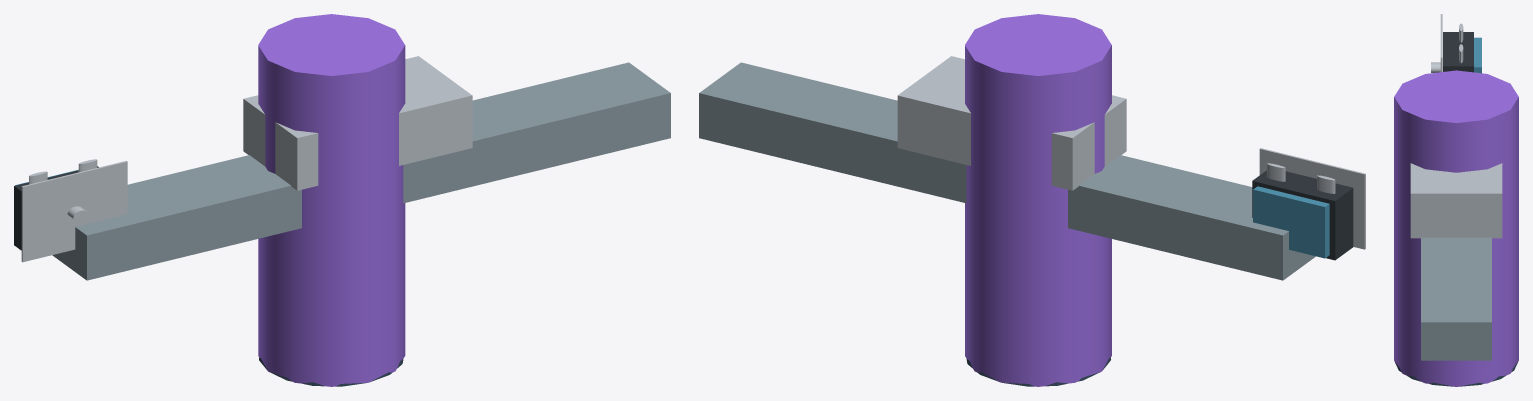
3 renders of one model, left to right at view 1: azimuth 30°, elevation 25°; view 2: azimuth 150°, elevation 25°; view 3: azimuth 270°, elevation 25°, orthographic. The views are drawn at different scales.
Visible parts, largest first — view 1: visualJoint, g0001, g0, g1, g0002; view 2: visualJoint, g0001, g0, g3, g0002, g1; view 3: visualJoint, g0001, g0, g0002, g3, base, g1.
Boxes of the visible parts, x1,y1,x2,y2 form: visualJoint: (258, 14, 405, 386); g0001: (52, 62, 670, 280); g0: (243, 56, 472, 190); g1: (21, 161, 127, 262); g0002: (14, 166, 98, 250); visualJoint: (965, 14, 1111, 386); g0001: (699, 62, 1315, 280); g0: (897, 56, 1126, 190); g3: (1253, 186, 1329, 258); g0002: (1252, 170, 1353, 260); g1: (1259, 148, 1365, 249); visualJoint: (1394, 70, 1518, 386); g0001: (1421, 237, 1491, 360); g0: (1410, 163, 1502, 238); g0002: (1443, 32, 1473, 72); g3: (1474, 37, 1481, 73); base: (1394, 361, 1518, 386); g1: (1440, 14, 1442, 71).
Bounding box in the file's own units: 1.5 × 0.7 × 0.3.
